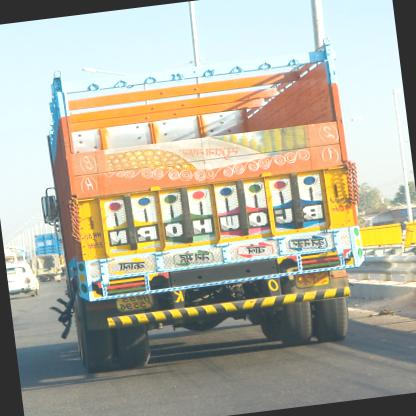car: (6, 260, 40, 298)
truck: (45, 38, 371, 376), (4, 245, 27, 264)
